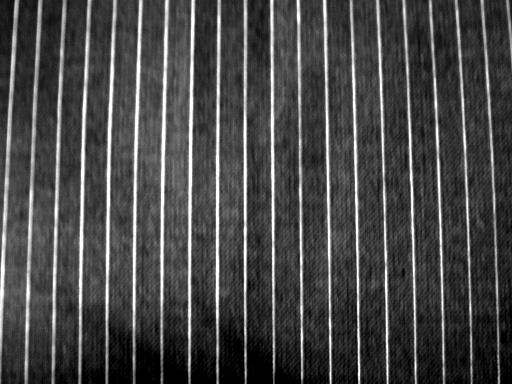fabric_perfect: (0, 0, 508, 384)
